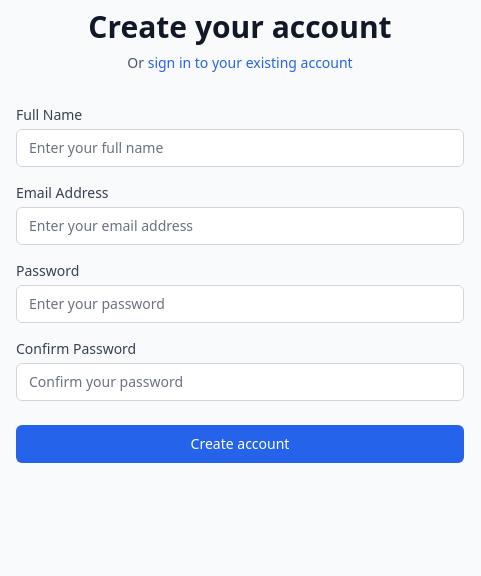
Test: RegisterForm › should show validation error for short password
Type "123" into the password field with placeholder "Enter your password" at (240, 304), box left=16, top=285, right=464, bottom=323
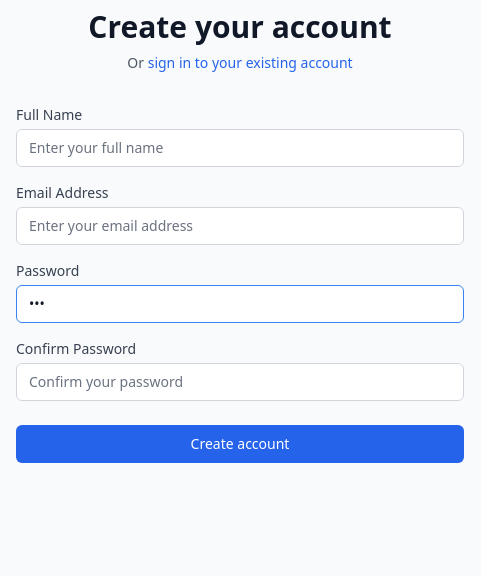
Click the button "Create account" at (240, 444), box left=16, top=425, right=464, bottom=463
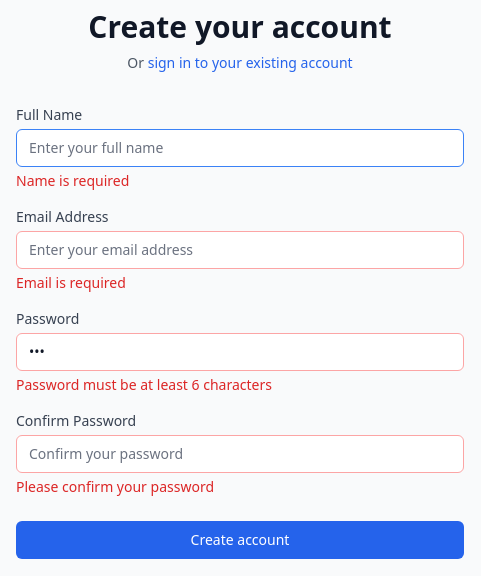
Result: the text "Password must be at least 6 characters" is shown at left=16, top=375, right=272, bottom=394
